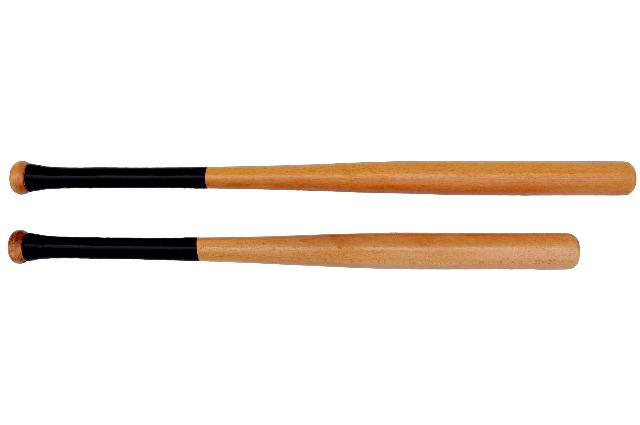baseball bat: (8, 161, 638, 199), (6, 231, 582, 271)
